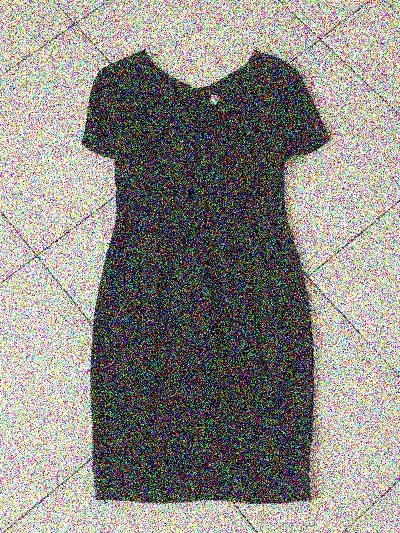Dress: (35, 40, 336, 510)
